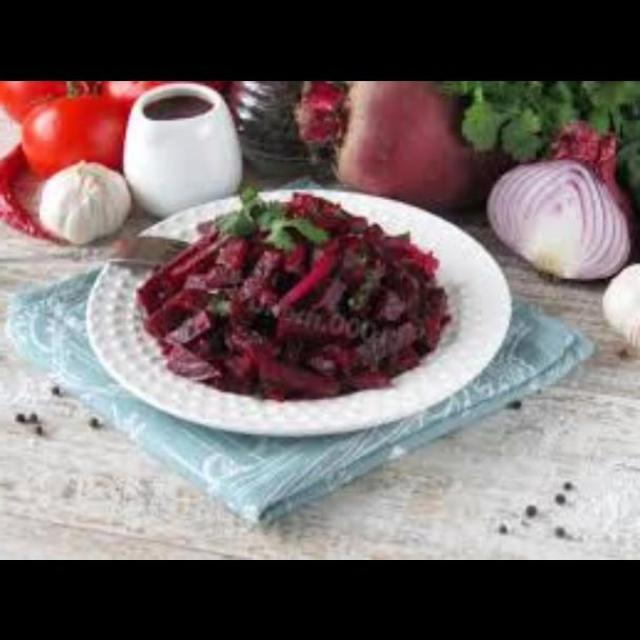Tomato: (1, 80, 163, 164)
beet: (136, 186, 452, 392), (295, 80, 476, 212)
garlic: (28, 148, 136, 246), (598, 231, 640, 350)
onion: (480, 130, 640, 281)
